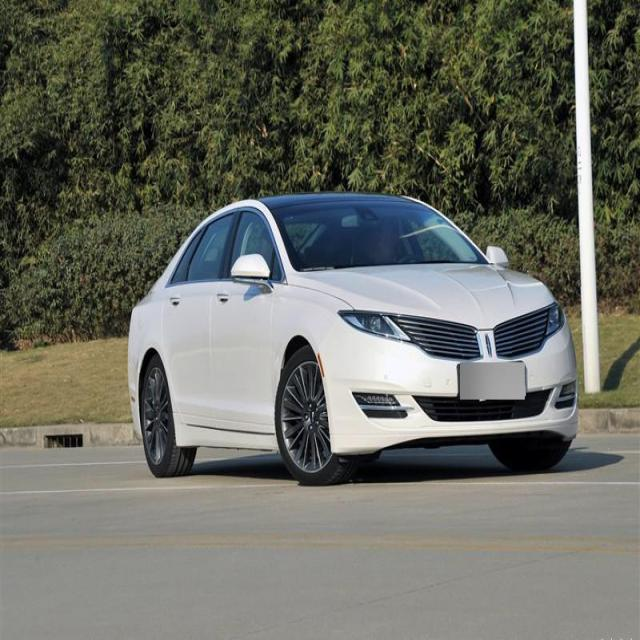door: (165, 212, 238, 439)
front_bumper: (314, 323, 579, 454)
front_glass: (268, 198, 482, 270)
front_left_side_light: (544, 300, 566, 338)
front_left_side_mirror: (484, 245, 510, 269)
front_right_side_door: (205, 205, 282, 438)
front_right_side_light: (335, 308, 412, 343)
front_right_side_mirror: (230, 251, 273, 291)
wheel: (274, 344, 354, 486), (140, 356, 198, 478)
